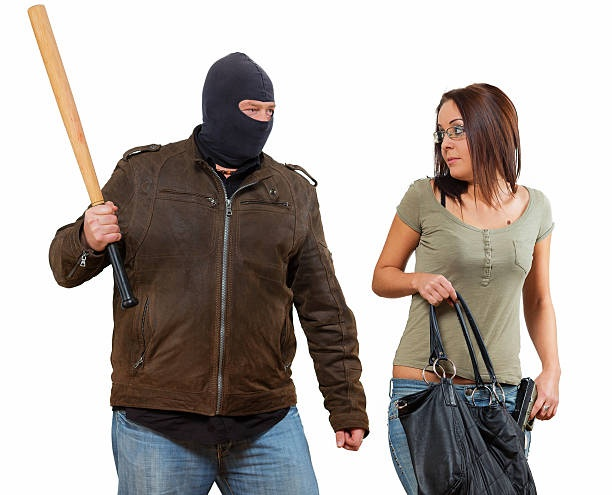bita: (20, 1, 134, 309)
